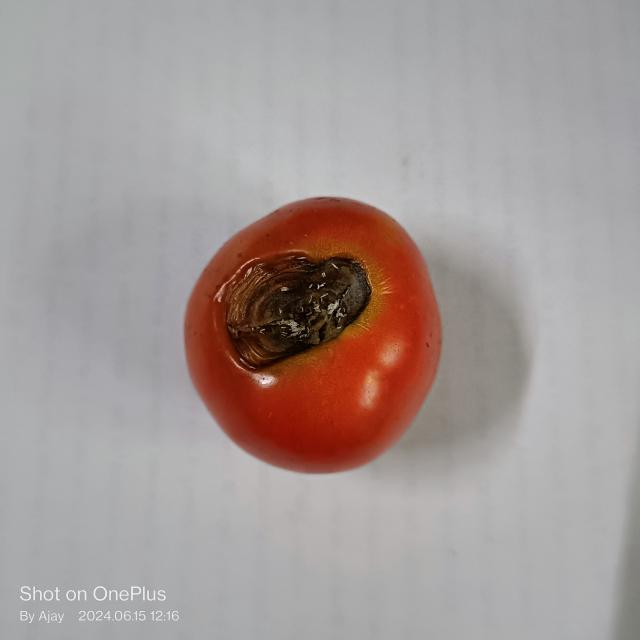Anthrocnose: (213, 251, 374, 378)
